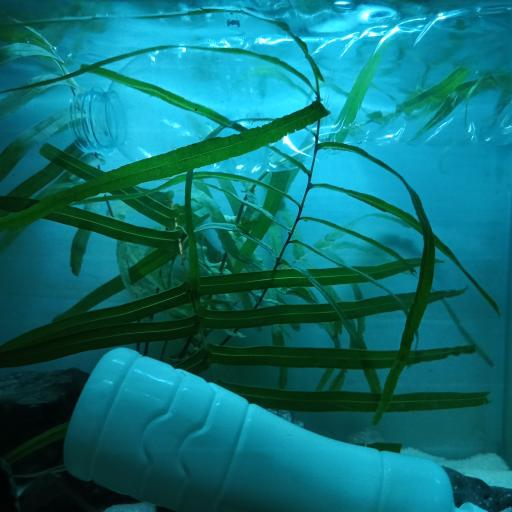plastic_bottle: (58, 346, 488, 512), (66, 6, 512, 162)
